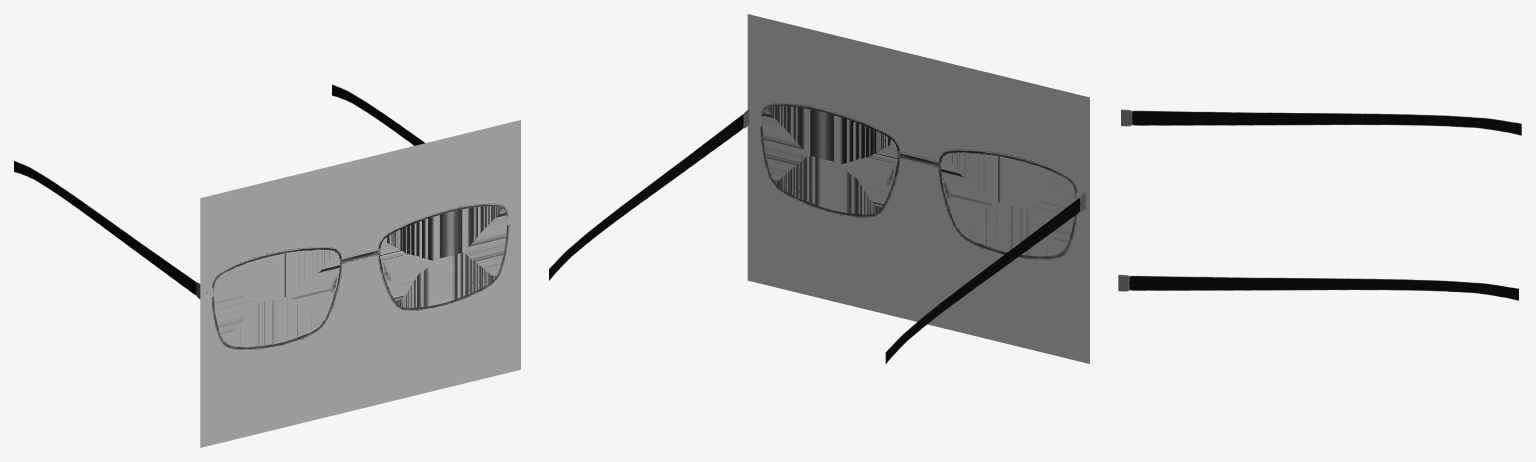
Rendered from times-champ_black-gunmetal.glb.
3 renders of one model, left to right at view 1: azimuth 30°, elevation 25°; view 2: azimuth 150°, elevation 25°; view 3: azimuth 270°, elevation 25°, orthographic. The views are drawn at different scales.
Parts seen in each view (by area): view 1: Front, Right, Left; view 2: Front, Left, Right; view 3: Right, Left.
Part boxes in pixels (left/top/right/bottom): Front: left=200, top=120, right=520, bottom=447; Right: left=14, top=161, right=200, bottom=298; Left: left=332, top=84, right=425, bottom=145; Front: left=747, top=14, right=1089, bottom=363; Left: left=549, top=109, right=748, bottom=280; Right: left=885, top=192, right=1085, bottom=363; Right: left=1121, top=109, right=1521, bottom=135; Left: left=1118, top=274, right=1518, bottom=300.
Size of the model in its own units: 146 by 109 by 149.
Materials: 4 (4 with a texture image).
